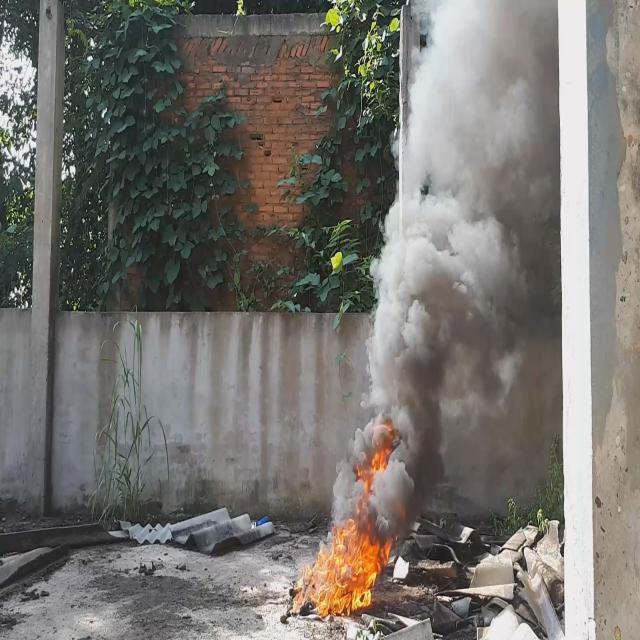Fire: (292, 442, 388, 618)
Smoke: (332, 0, 558, 531)
